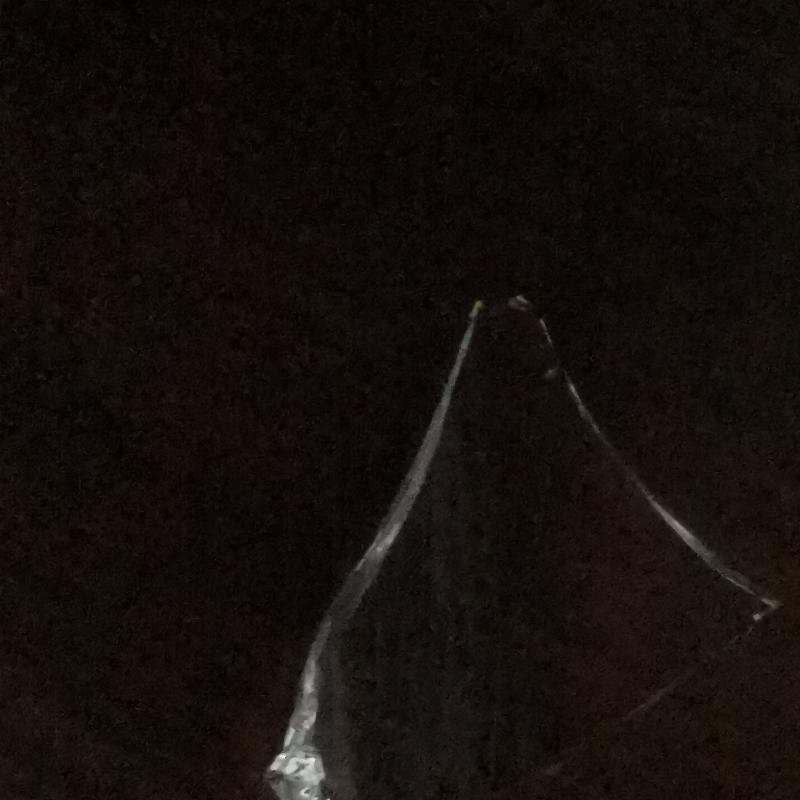glass: (266, 290, 791, 800)
